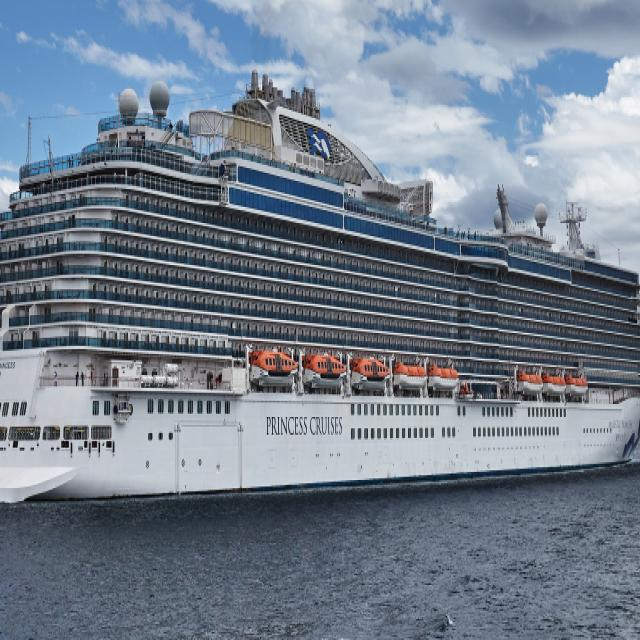cruises: (1, 67, 640, 515)
